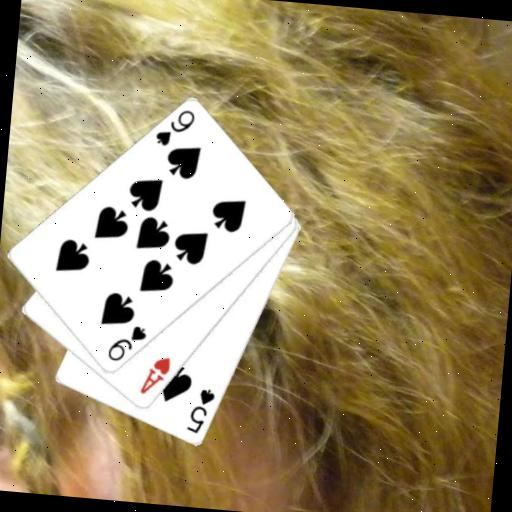5S: (184, 385, 218, 437)
9S: (104, 320, 150, 366), (151, 105, 197, 151)
AH: (136, 352, 173, 399)
